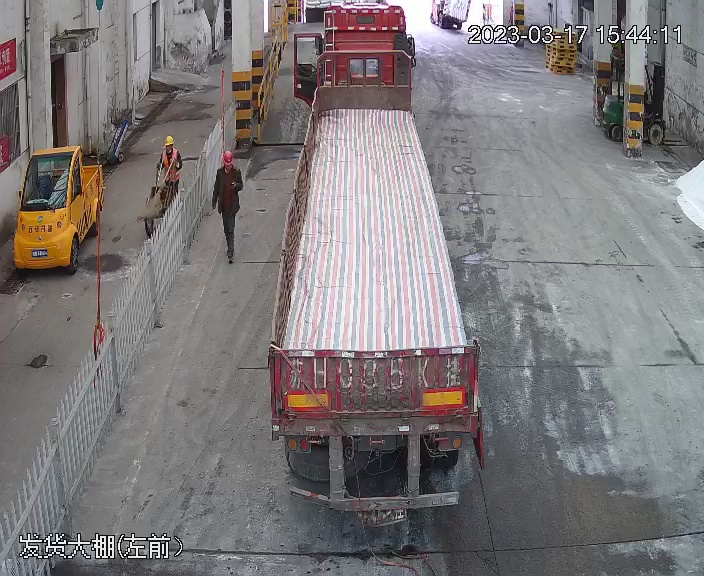head: (215, 150, 242, 180), (159, 135, 182, 160)
helmet: (221, 150, 235, 162), (163, 135, 175, 145)
people: (210, 149, 245, 265), (151, 134, 184, 213)
truck: (259, 3, 491, 540)
